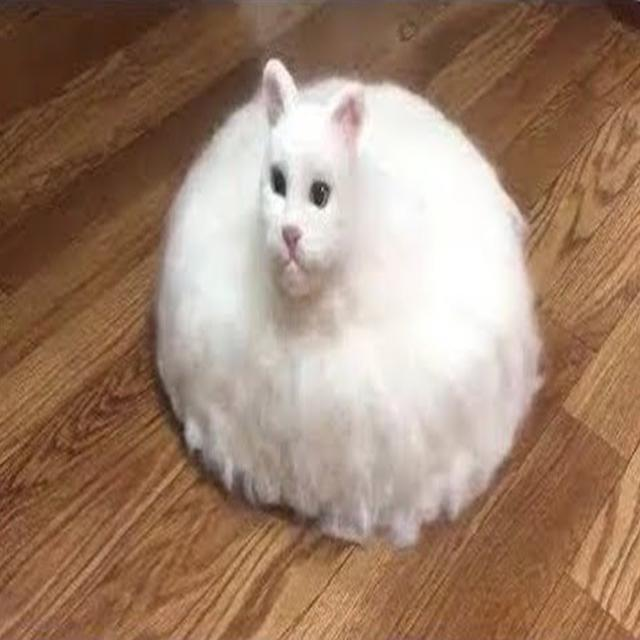cat: (144, 39, 546, 552)
